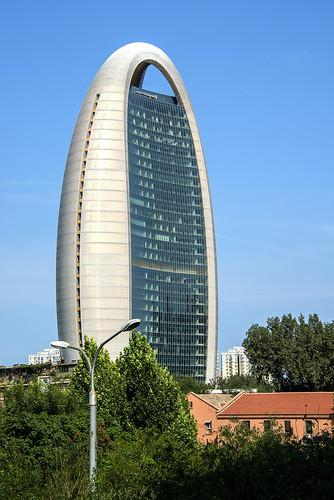building: (51, 37, 221, 394)
